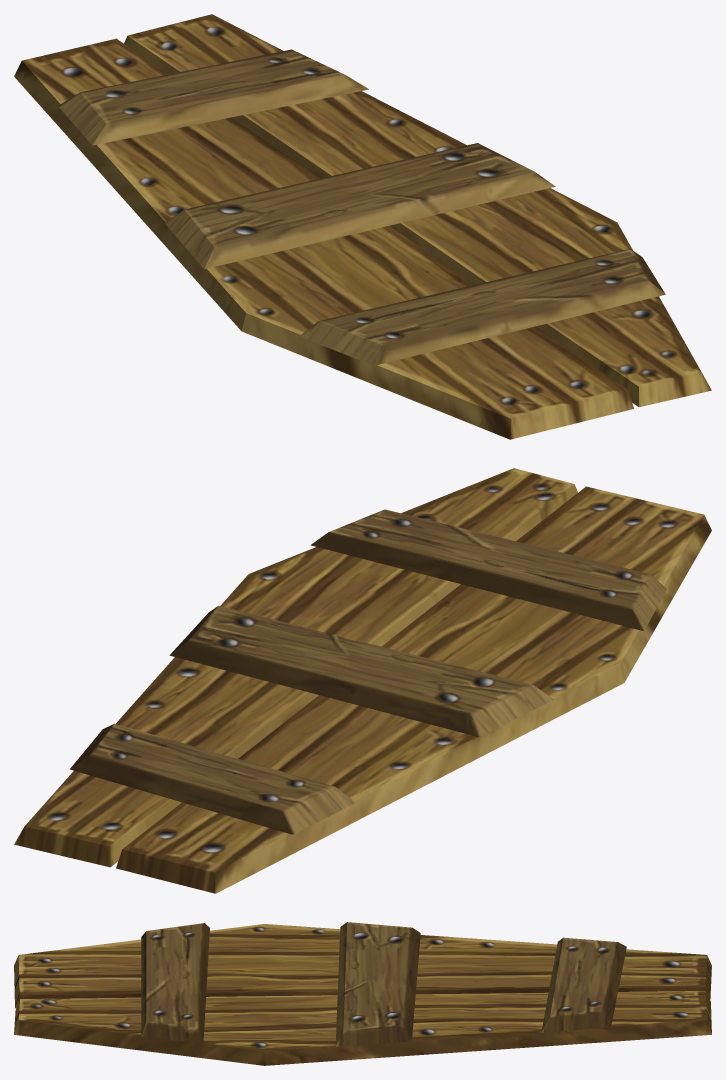
The model's file is CoffinLid01.FBX.
3 renders of one model, top to bottom at view 1: azimuth 30°, elevation 25°; view 2: azimuth 150°, elevation 25°; view 3: azimuth 270°, elevation 25°, orthographic. The views are drawn at different scales.
Parts seen in each view (by area): view 1: CoffinLid01; view 2: CoffinLid01; view 3: CoffinLid01.
Part boxes in pixels (<box>): CoffinLid01: <box>14,14,711,439</box>; CoffinLid01: <box>14,468,711,893</box>; CoffinLid01: <box>14,922,711,1065</box>.
Size of the model in its own units: 13.11 by 1.09 by 29.44.
